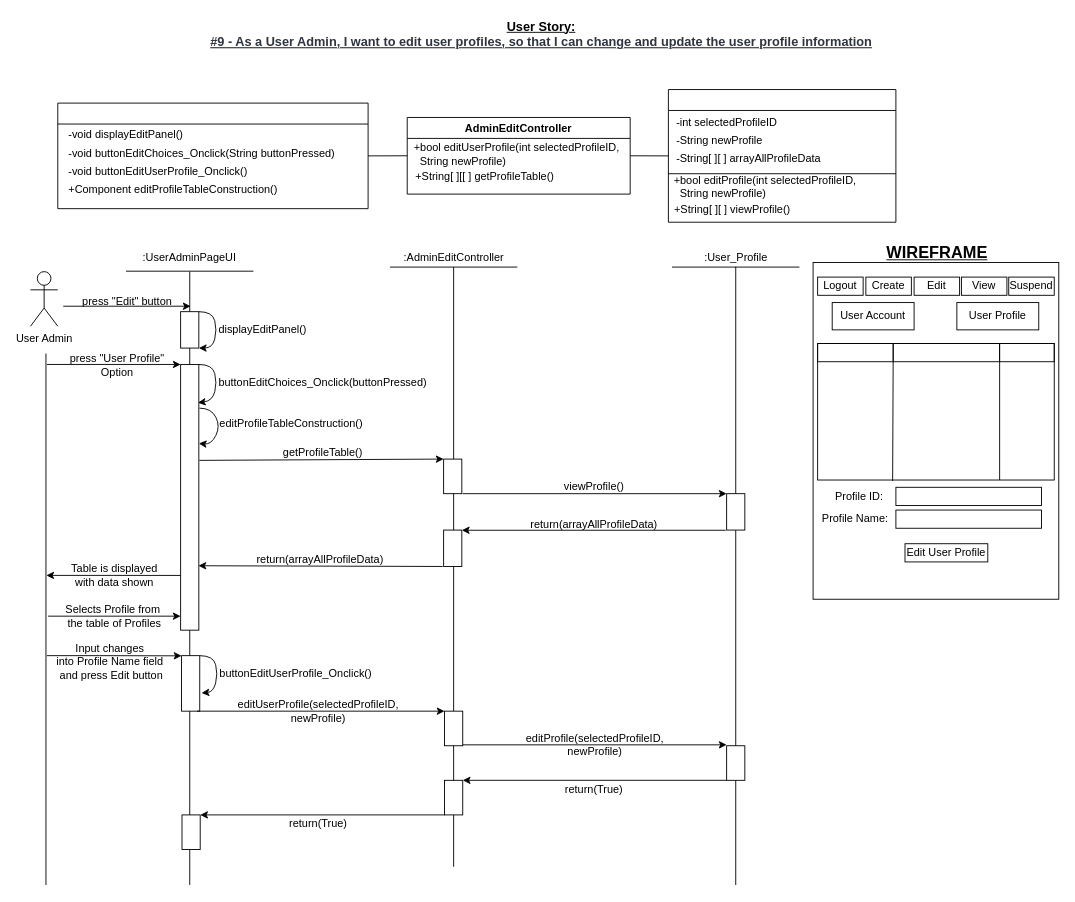
This 1075x902 diagram has some shape labels left out. Each missing label, with the box of its shape:
Active: (999, 343, 1054, 362)
Profile ID: (817, 343, 893, 362)
Profile Name: (892, 343, 1000, 362)
User_Profile: (667, 89, 896, 222)
UserAdminPageUI: (57, 102, 368, 209)
